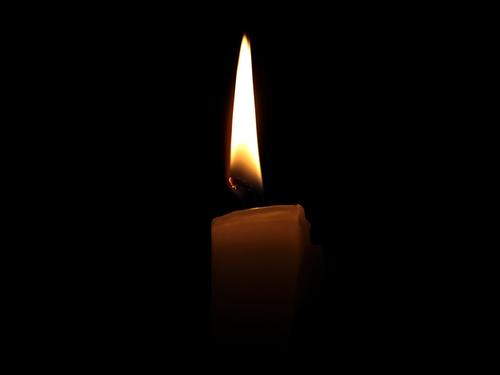Fire: (220, 31, 265, 194)
